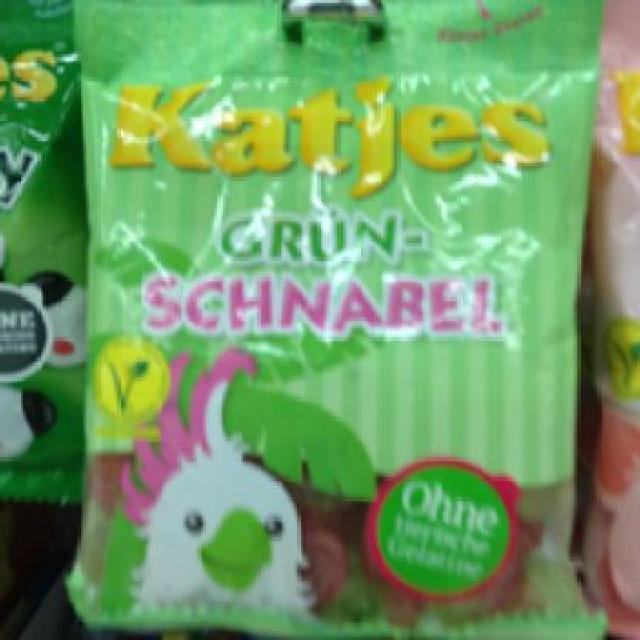Candy: (66, 0, 600, 637)
